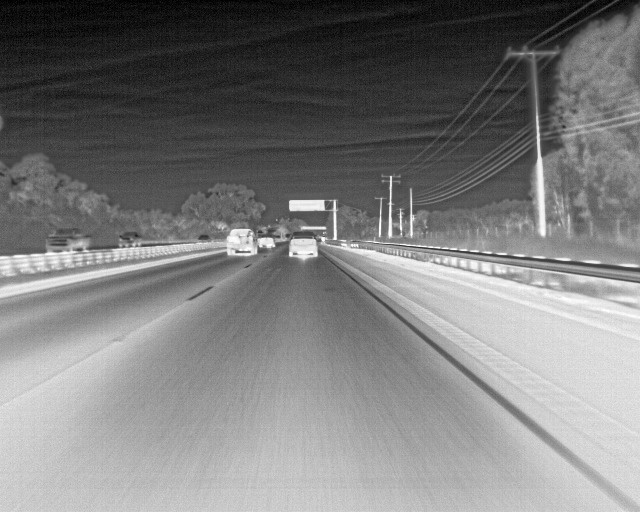vehicle: (288, 228, 320, 261), (229, 226, 259, 259)
